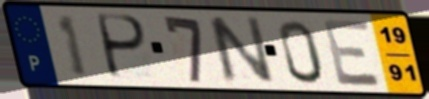0: (275, 18, 327, 86)
1: (55, 12, 88, 80)
7: (161, 13, 205, 84)
E: (319, 18, 386, 89)
N: (204, 14, 278, 86)
P: (96, 12, 150, 82)
